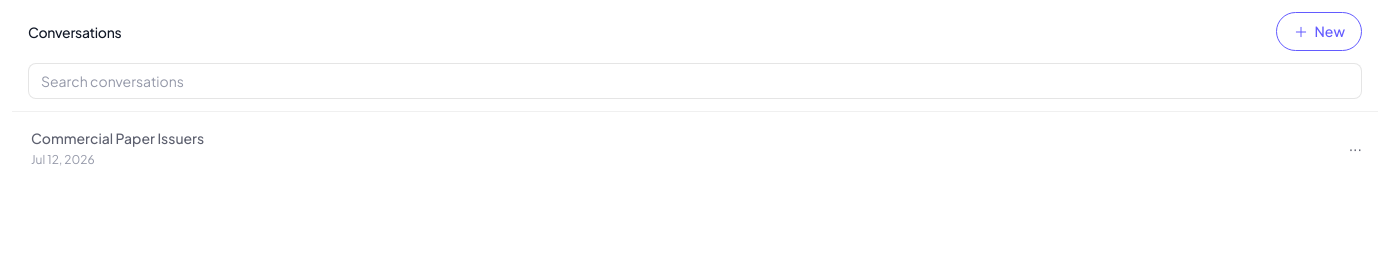
Test case: ConversationList inline rename › opens an inline textbox (not a modal) when Rename is clicked
The width and height of the screenshot is (1378, 270).
Click the button named "Conversation actions" at (1355, 148), box [1341,132,1370,164]
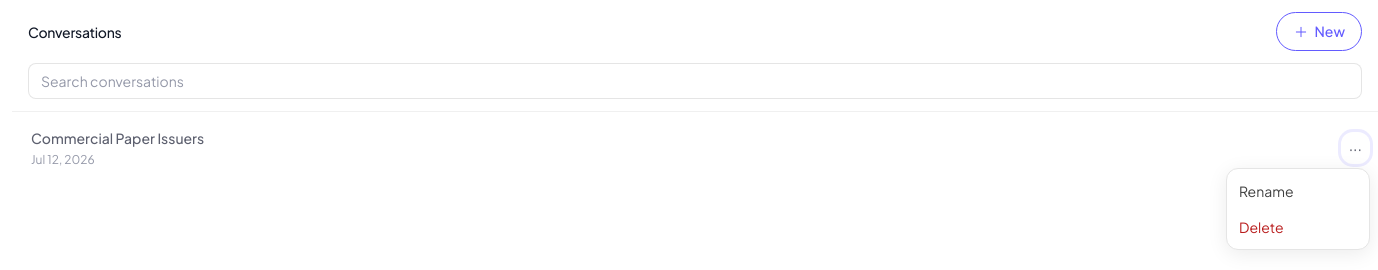
Click the menu item "Rename" at (1298, 191), box [1227,173,1369,209]
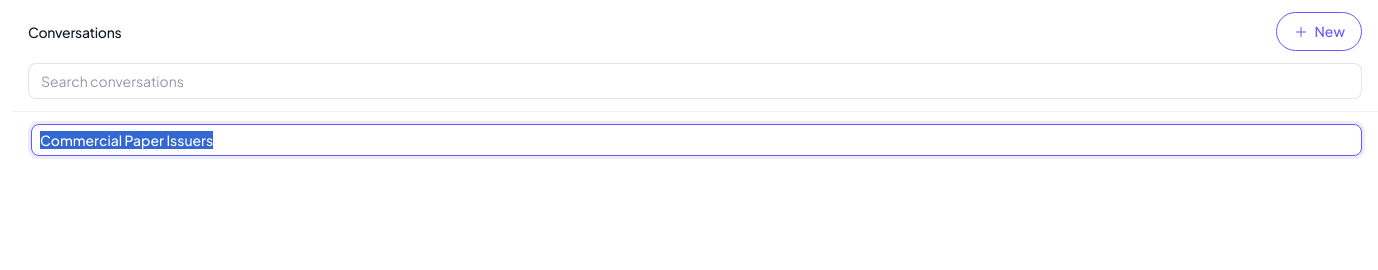
expect the field named "Conversation title" holds "Commercial Paper Issuers": met, box [31,124,1362,156]
